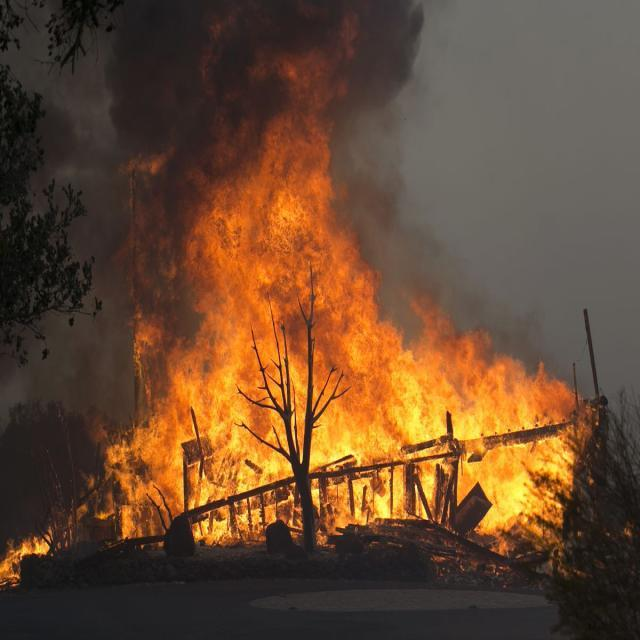Fire: (0, 24, 640, 594)
Smoke: (0, 0, 431, 414)
